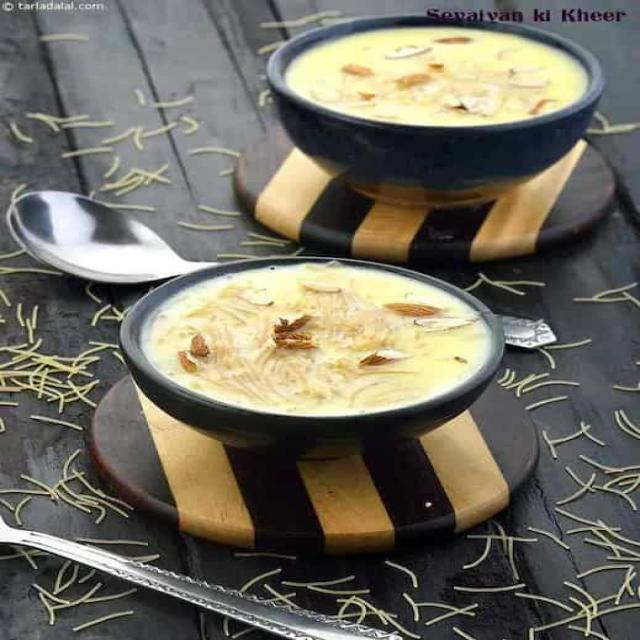shavige payasa: (129, 248, 512, 428), (272, 12, 616, 143)
